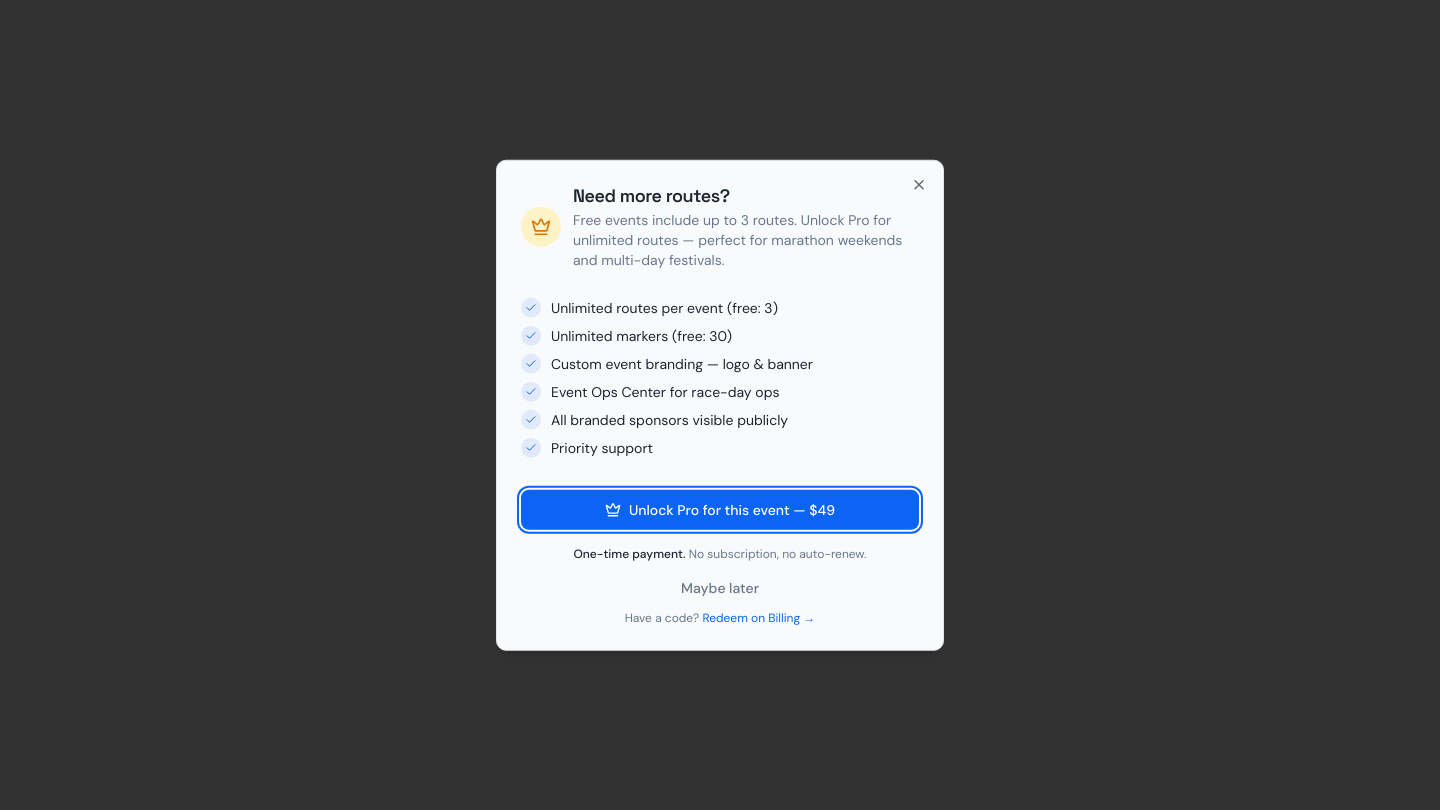
UpgradeModal checkout › tells the customer and reports it when create-checkout fails
Click the button "Unlock Pro for this event — $49": coordinates (720, 509) [521,489,919,529]
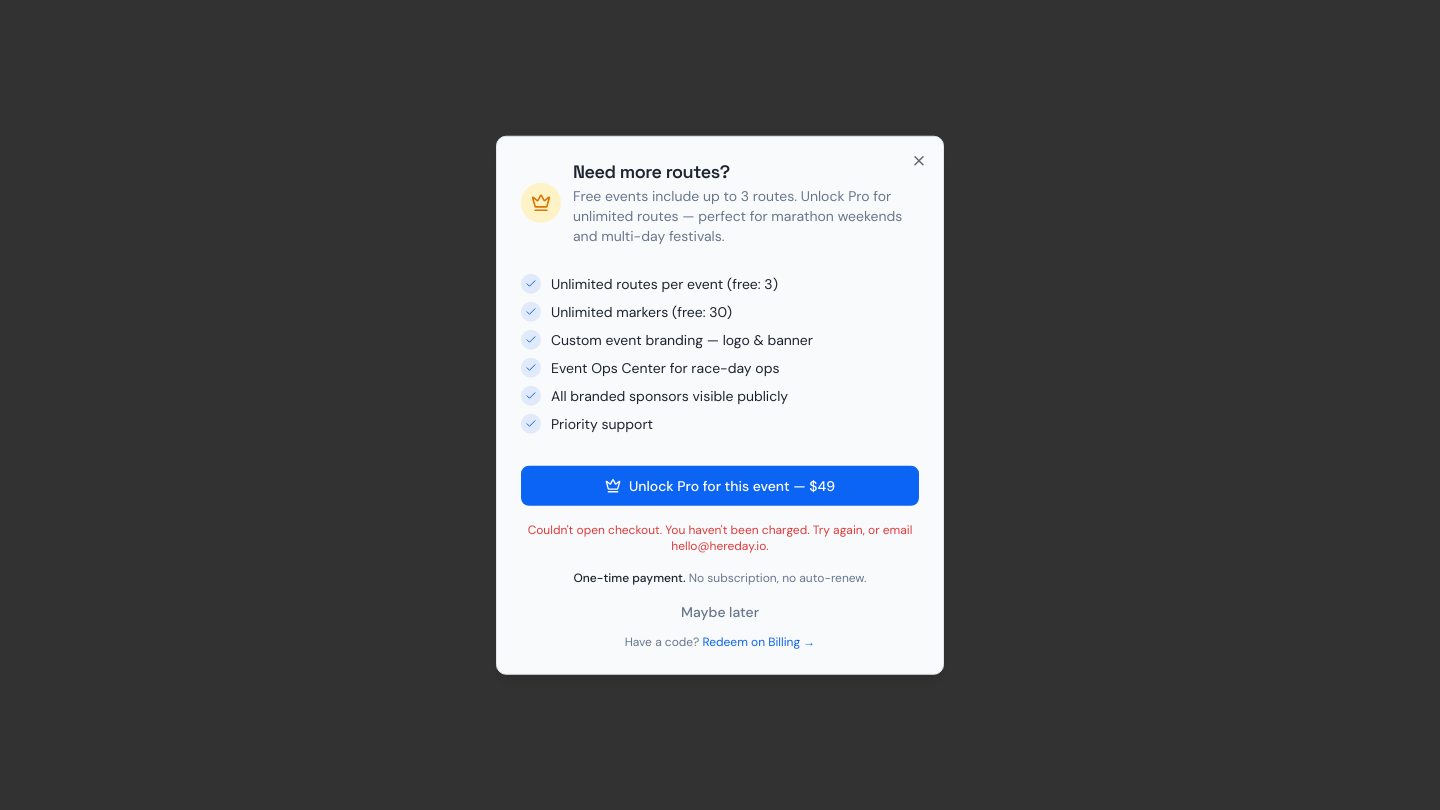
expect the button "Unlock Pro for this event — $49" is enabled: met, box [521,465,919,505]
expect the text "Couldn't open checkout" is shown: met, box [528,521,912,553]
